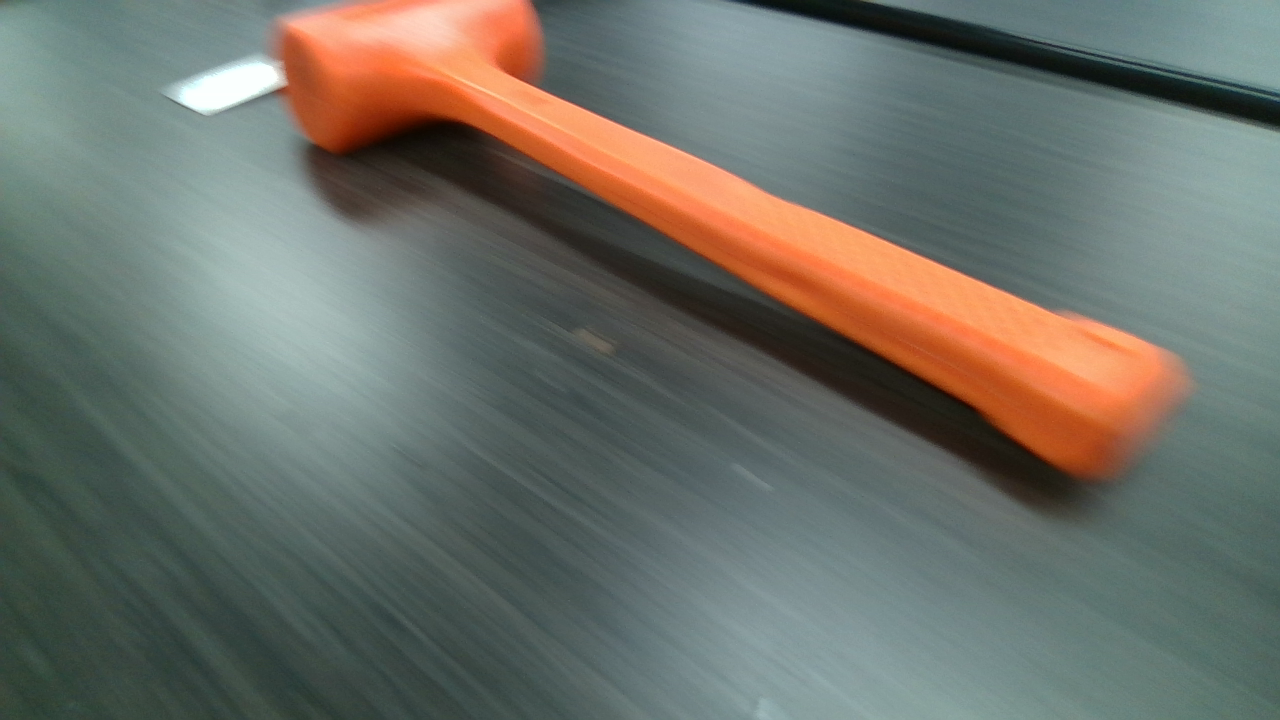Orange Hammer: (276, 0, 1190, 484)
